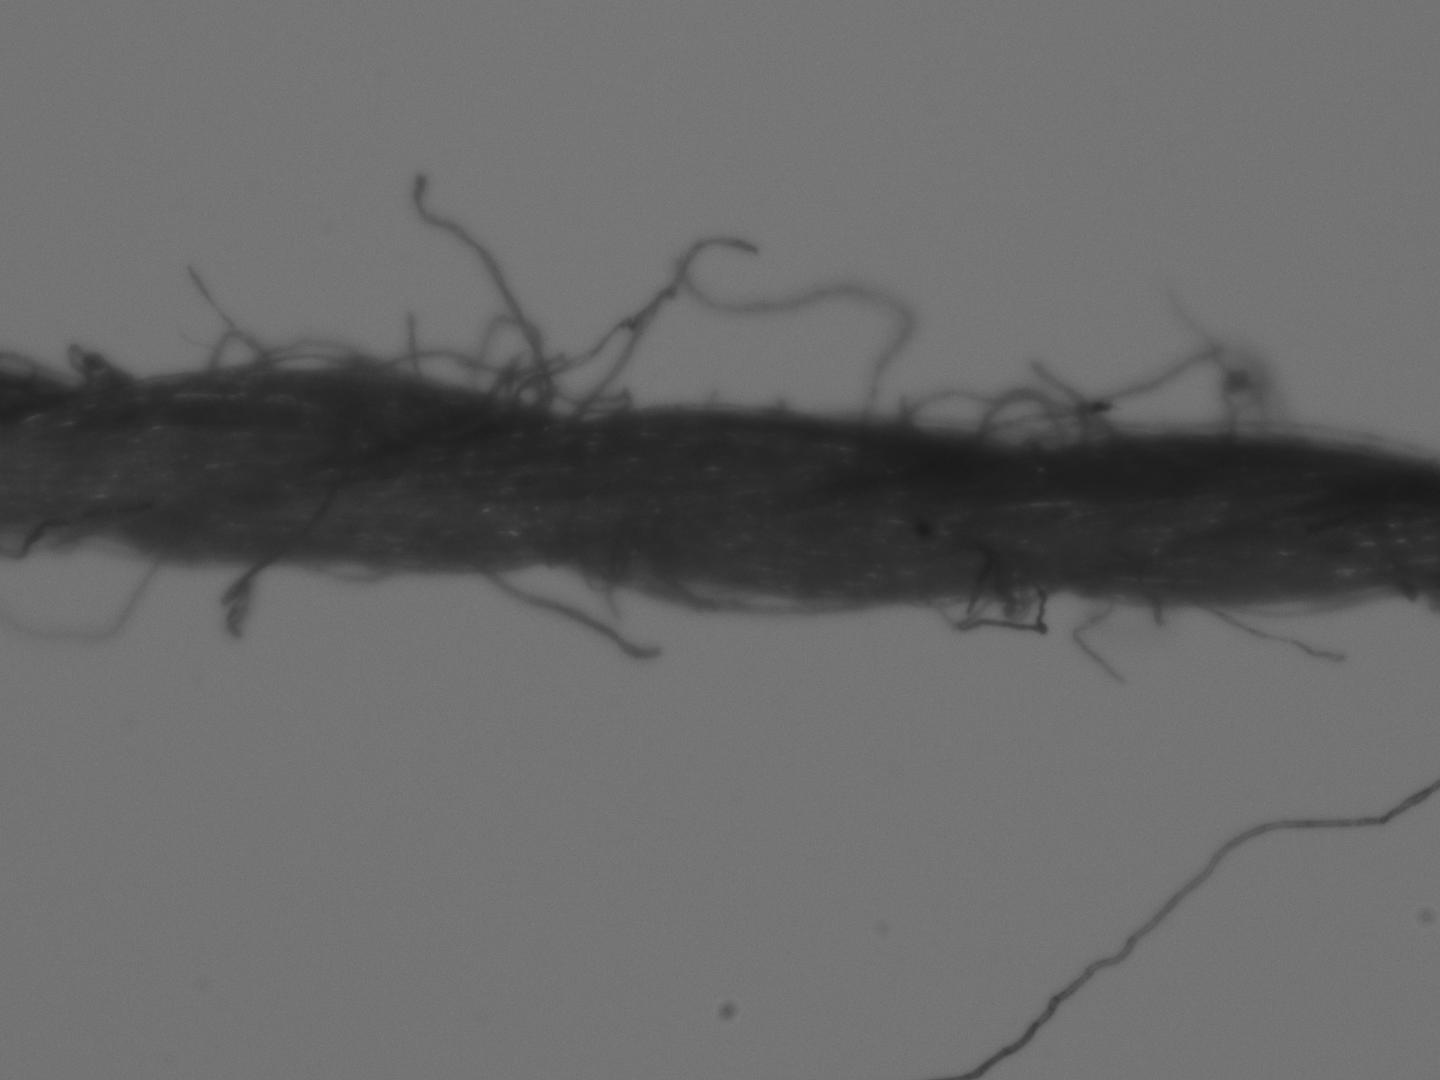loop_fiber: (192, 233, 917, 425), (895, 346, 1290, 456), (922, 587, 1048, 640)
protruding_fiber: (406, 162, 559, 412), (477, 563, 670, 664), (0, 545, 168, 643), (1186, 599, 1349, 664), (1068, 599, 1124, 692), (222, 555, 279, 640)
